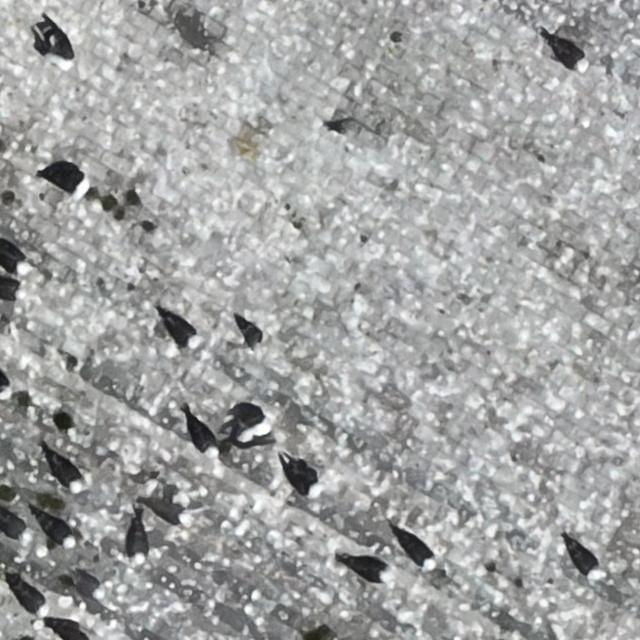umineko: (562, 539, 606, 583), (140, 494, 195, 528), (230, 405, 272, 445), (394, 529, 435, 568), (8, 578, 50, 616), (46, 165, 94, 197), (45, 26, 75, 74), (46, 455, 82, 489), (551, 39, 588, 71), (67, 567, 106, 596), (36, 516, 74, 545), (283, 458, 316, 491), (1, 509, 31, 545), (162, 316, 196, 347), (239, 317, 271, 349), (190, 420, 217, 457), (346, 560, 389, 582), (0, 244, 27, 274), (128, 527, 146, 566)
